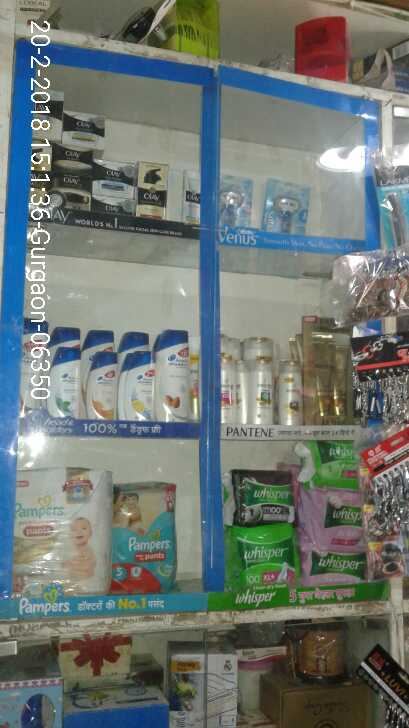venus: (261, 184, 308, 225), (221, 174, 252, 224)
